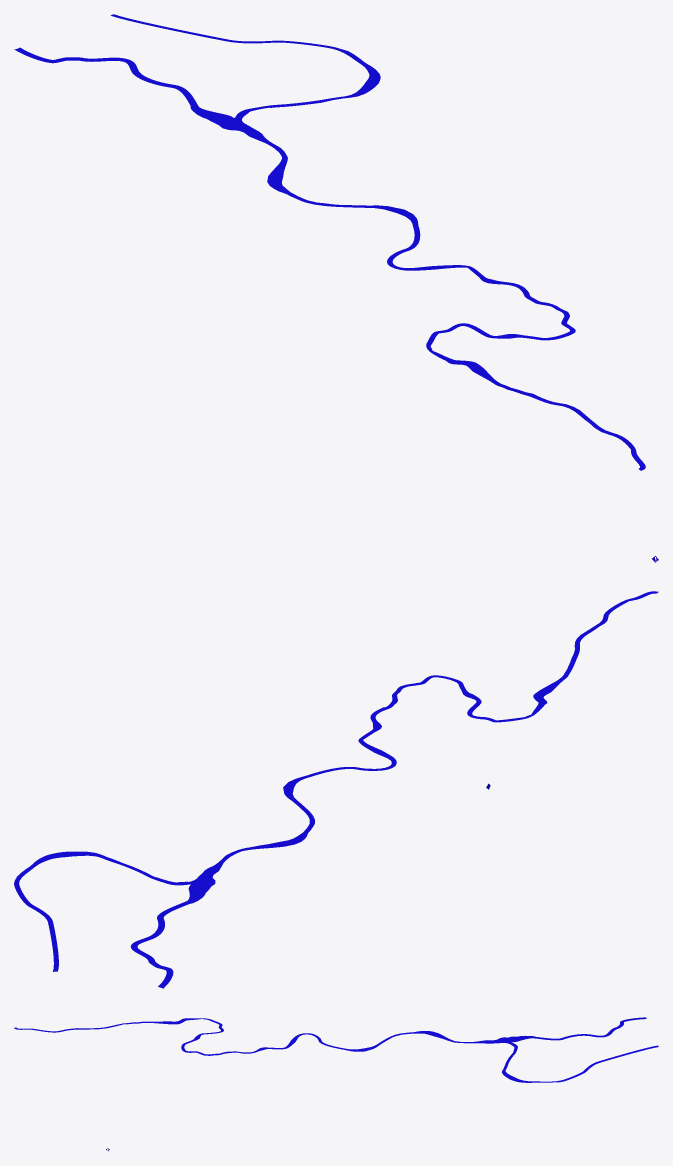
The model's file is River.fbx.
3 renders of one model, top to bottom at view 1: azimuth 30°, elevation 25°; view 2: azimuth 150°, elevation 25°; view 3: azimuth 270°, elevation 25°, orthographic. The views are drawn at different scales.
Visible parts, largest first — view 1: BezierCurve.001; view 2: BezierCurve.001; view 3: BezierCurve.001.
Boxes of the visible parts, x1=… form: BezierCurve.001: x1=14, y1=14, x2=658, y2=562; BezierCurve.001: x1=14, y1=591, x2=658, y2=988; BezierCurve.001: x1=14, y1=1017, x2=658, y2=1150.
Bounding box in the file's own units: 111420 × 78362 × 462662.
